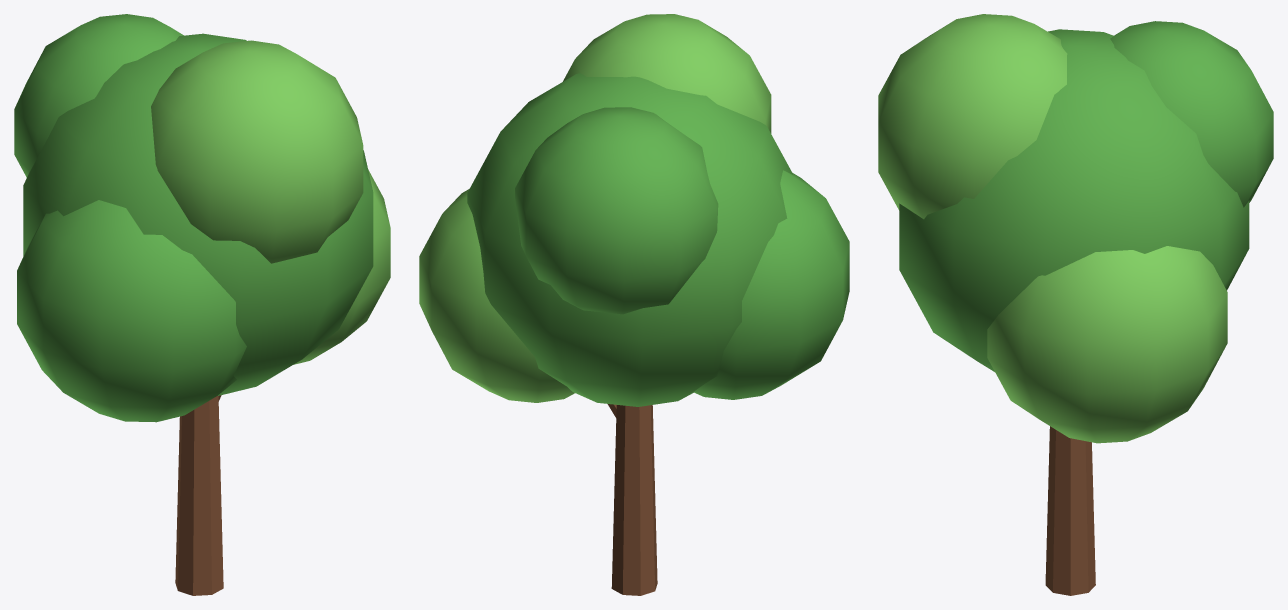
File: tree_a.glb
The picture shows the model from 3 angles, left to right: view 1: azimuth 30°, elevation 25°; view 2: azimuth 150°, elevation 25°; view 3: azimuth 270°, elevation 25°; orthographic projection. The views are drawn at different scales.
Parts seen in each view (by area): view 1: tree_a; view 2: tree_a; view 3: tree_a.
Part boxes in pixels (left/top/right/bottom): tree_a: left=14, top=14, right=390, bottom=595; tree_a: left=419, top=14, right=849, bottom=595; tree_a: left=878, top=14, right=1273, bottom=595.
Size of the model in its own units: 3.87 by 5.45 by 3.46.
